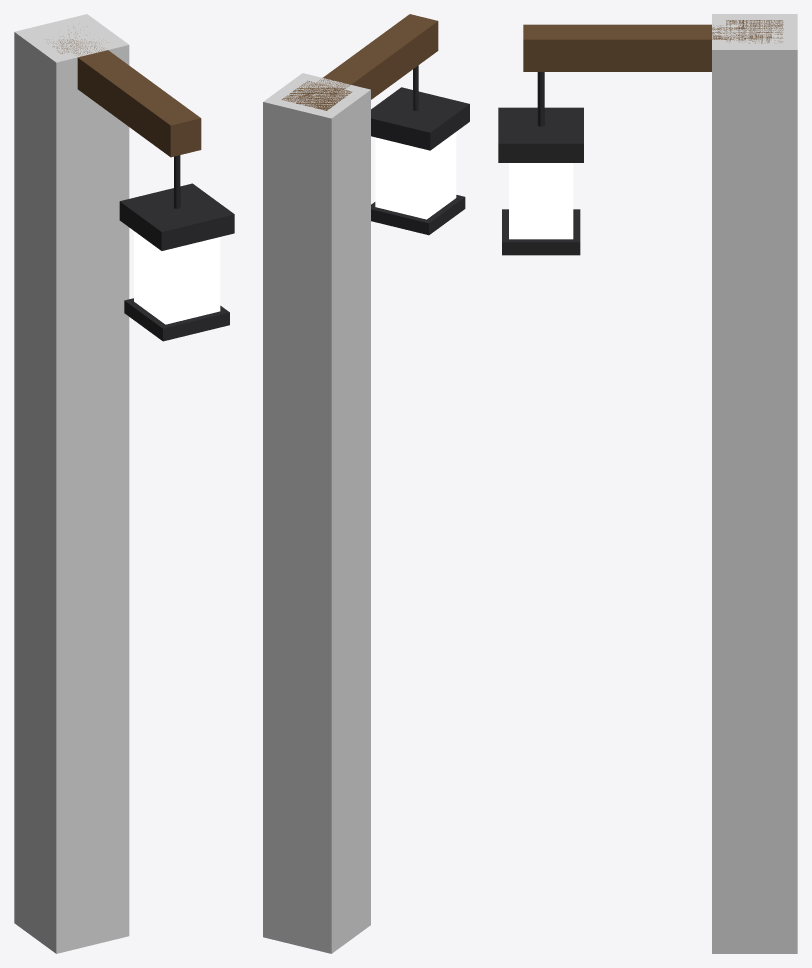
Rendered from farol_camino.glb.
3 views of the same model, side by side, from view 1: azimuth 30°, elevation 25°; view 2: azimuth 150°, elevation 25°; view 3: azimuth 270°, elevation 25° (orthographic). The views are drawn at different scales.
Parts seen in each view (by area): view 1: COL_0, farol_camino_Malla; view 2: COL_0, farol_camino_Malla; view 3: COL_0, farol_camino_Malla.
Part boxes in pixels (bbox=[...]): COL_0: bbox=[14, 14, 129, 953]; farol_camino_Malla: bbox=[53, 32, 234, 341]; COL_0: bbox=[263, 73, 370, 953]; farol_camino_Malla: bbox=[281, 14, 469, 235]; COL_0: bbox=[712, 14, 797, 953]; farol_camino_Malla: bbox=[498, 20, 783, 255].
Size of the model in its own units: 0.24 by 2.8 by 0.84.
